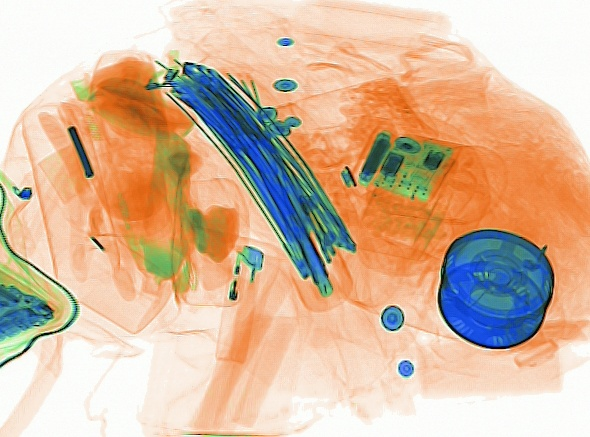lighter: (212, 240, 264, 358)
